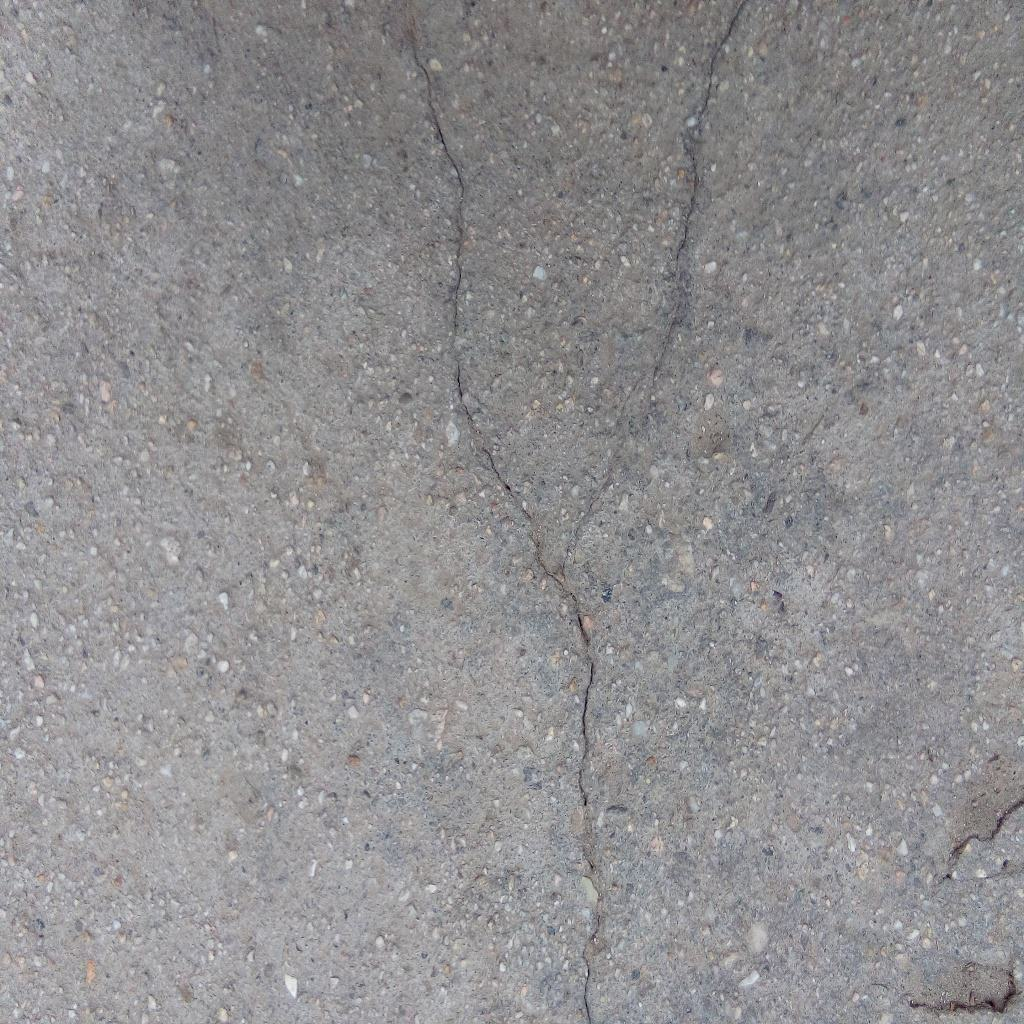Crack: (554, 1, 748, 580), (407, 23, 553, 580), (554, 579, 603, 1024)
